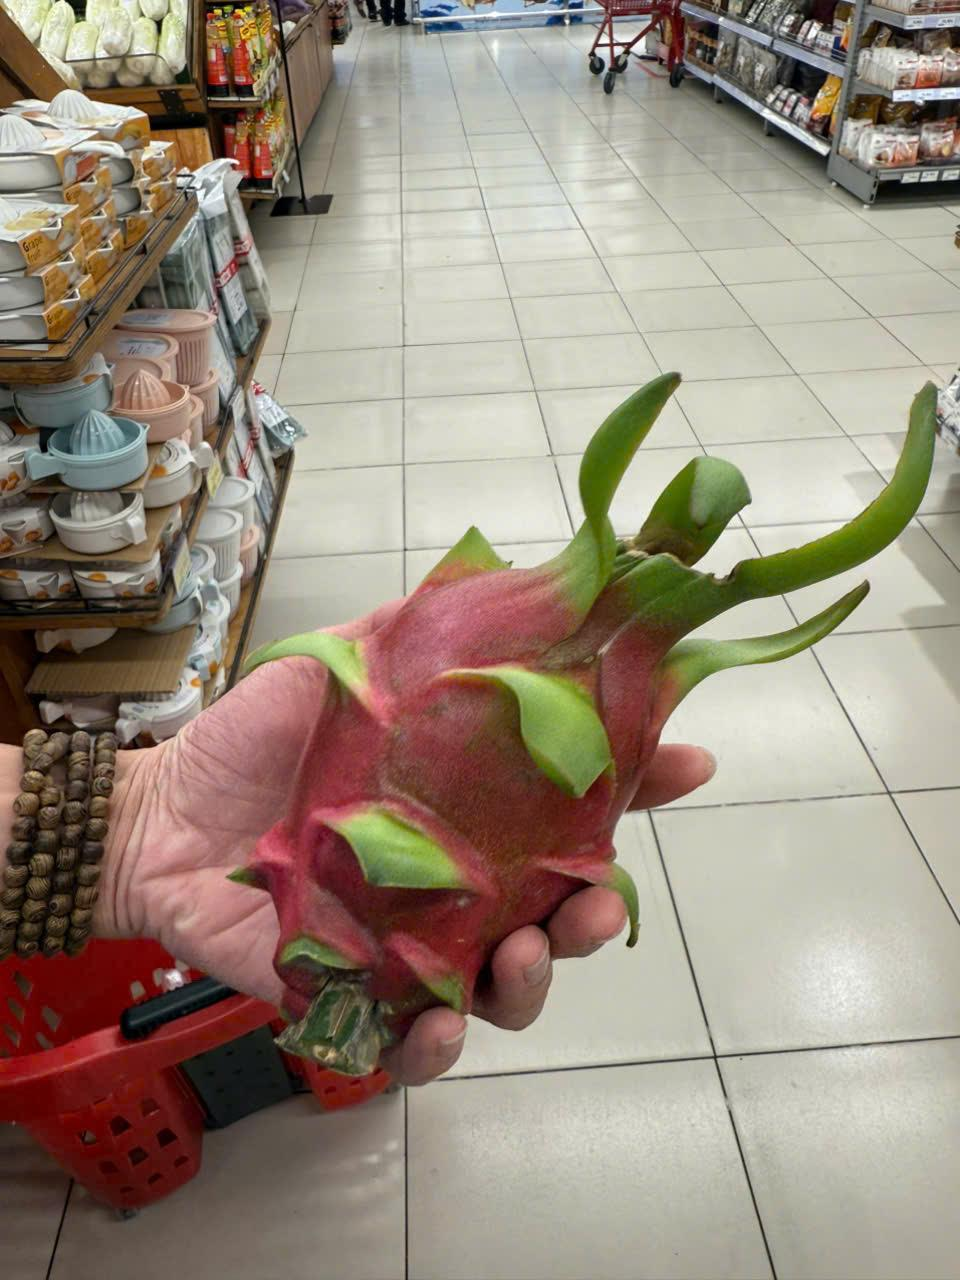dragon fruit: (233, 366, 946, 1040)
